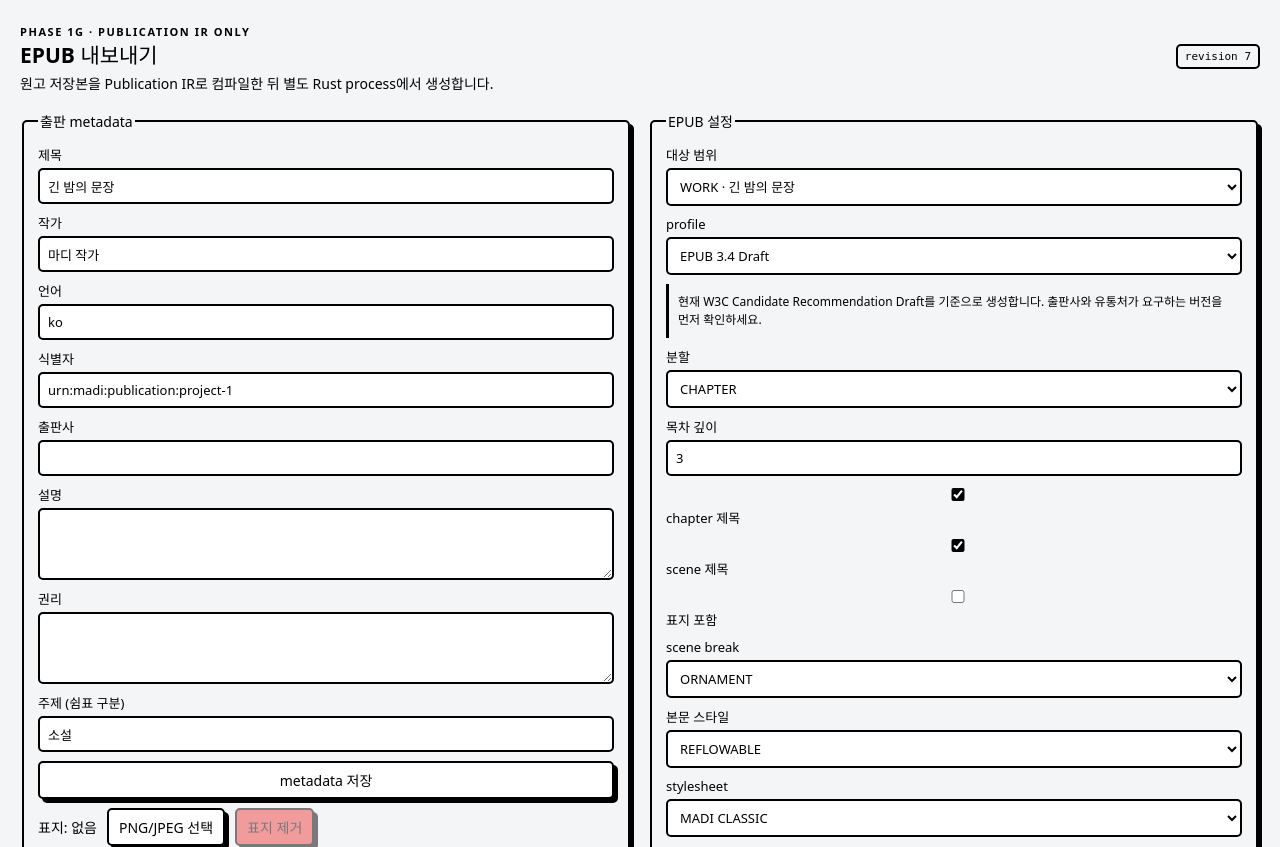
Phase 1G EPUB export workspace › labels EPUB 3.4 as a draft and EPUB 3.3 as the stable compatibility path
The width and height of the screenshot is (1280, 847).
Expected: the text "Candidate Recommendation Draft" is shown, x1=678 y1=293 x2=1222 y2=328
Select "EPUB 3.3 호환" in the dropdown labelled "profile". click: (954, 256)
box: x1=666 y1=237 x2=1242 y2=275
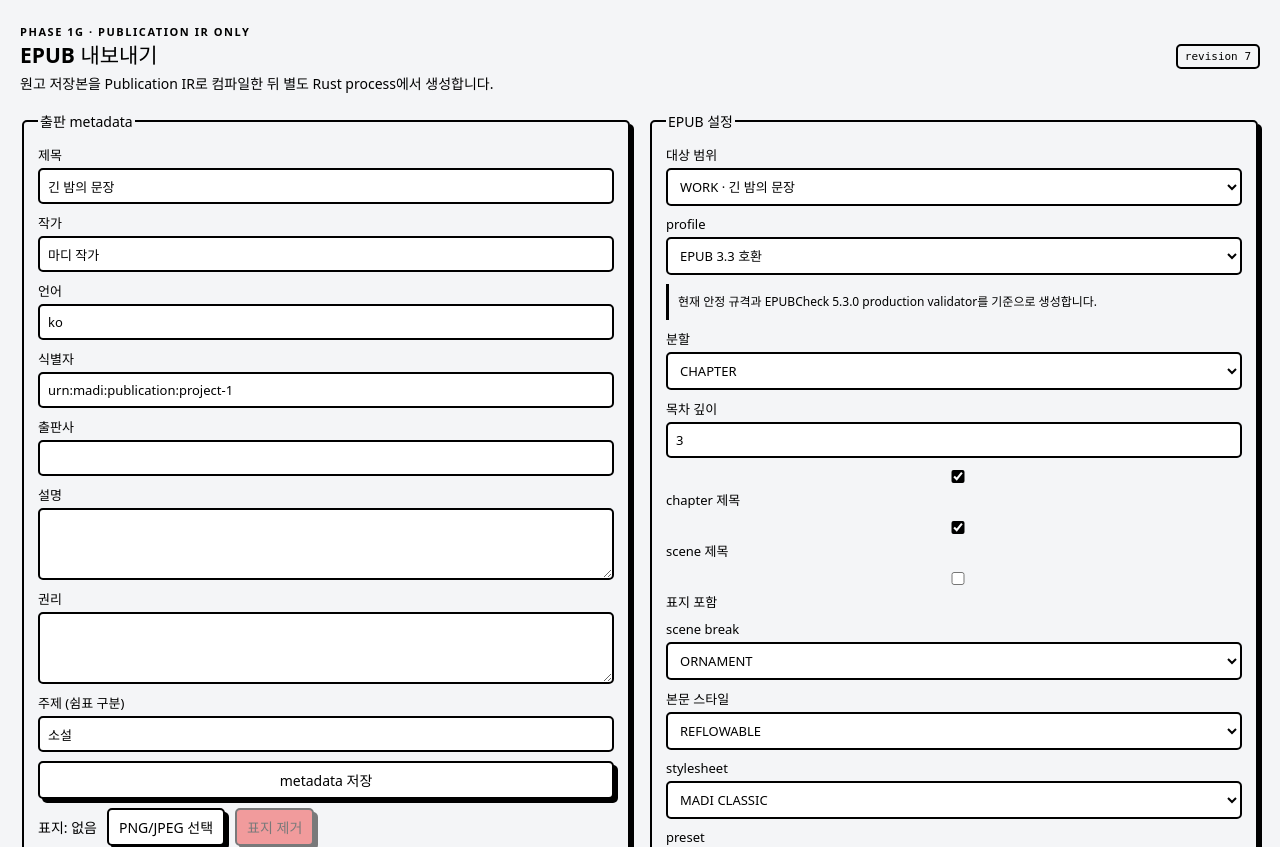
Expected: the text "현재 안정 규격과 EPUBCheck 5.3.0 production validator를 기준으로 생성합니다." is shown, x1=666 y1=284 x2=1242 y2=320
